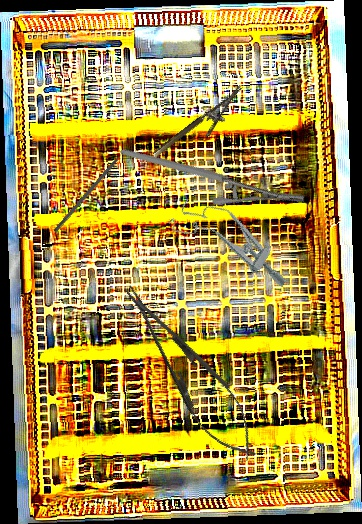Hook Surgical: (53, 145, 131, 234)
Needle Holder: (107, 270, 272, 473), (119, 96, 308, 254), (151, 85, 253, 170)
Speculum: (166, 187, 302, 296)
